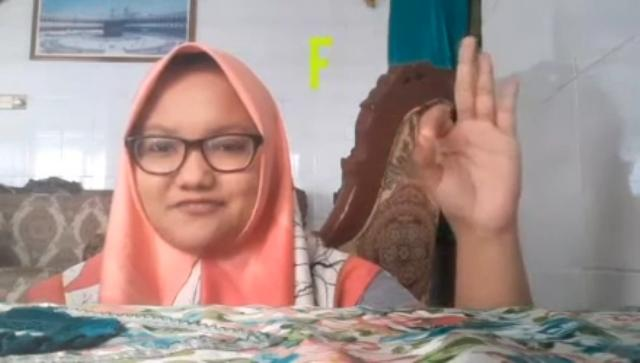F: (408, 34, 526, 230)
